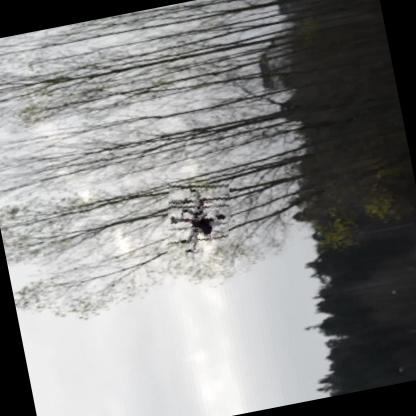drone: (157, 173, 239, 265)
